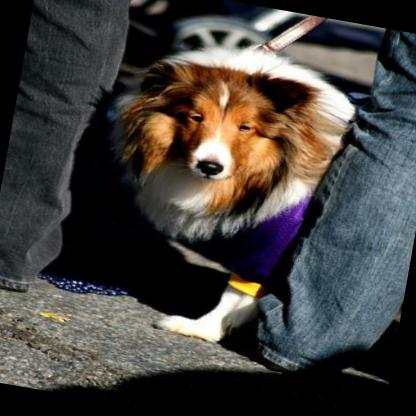collie: (65, 8, 373, 370)
